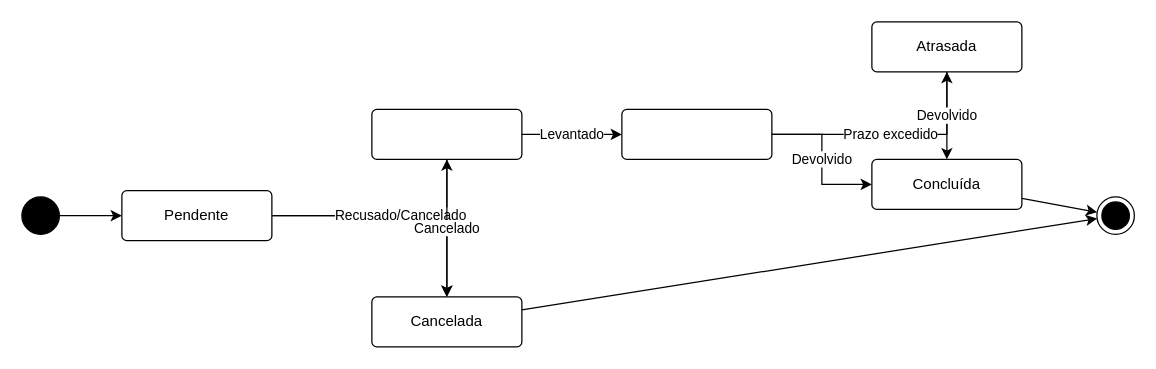
The diagram is 1156 pixels wide and 369 high, and some of its shapes have lost their labels. The box of each missing label's shape, as (x1, y1, x2, y2) in pixels:
Confirmada: (371, 108, 522, 159)
Em Curso: (621, 108, 772, 159)
